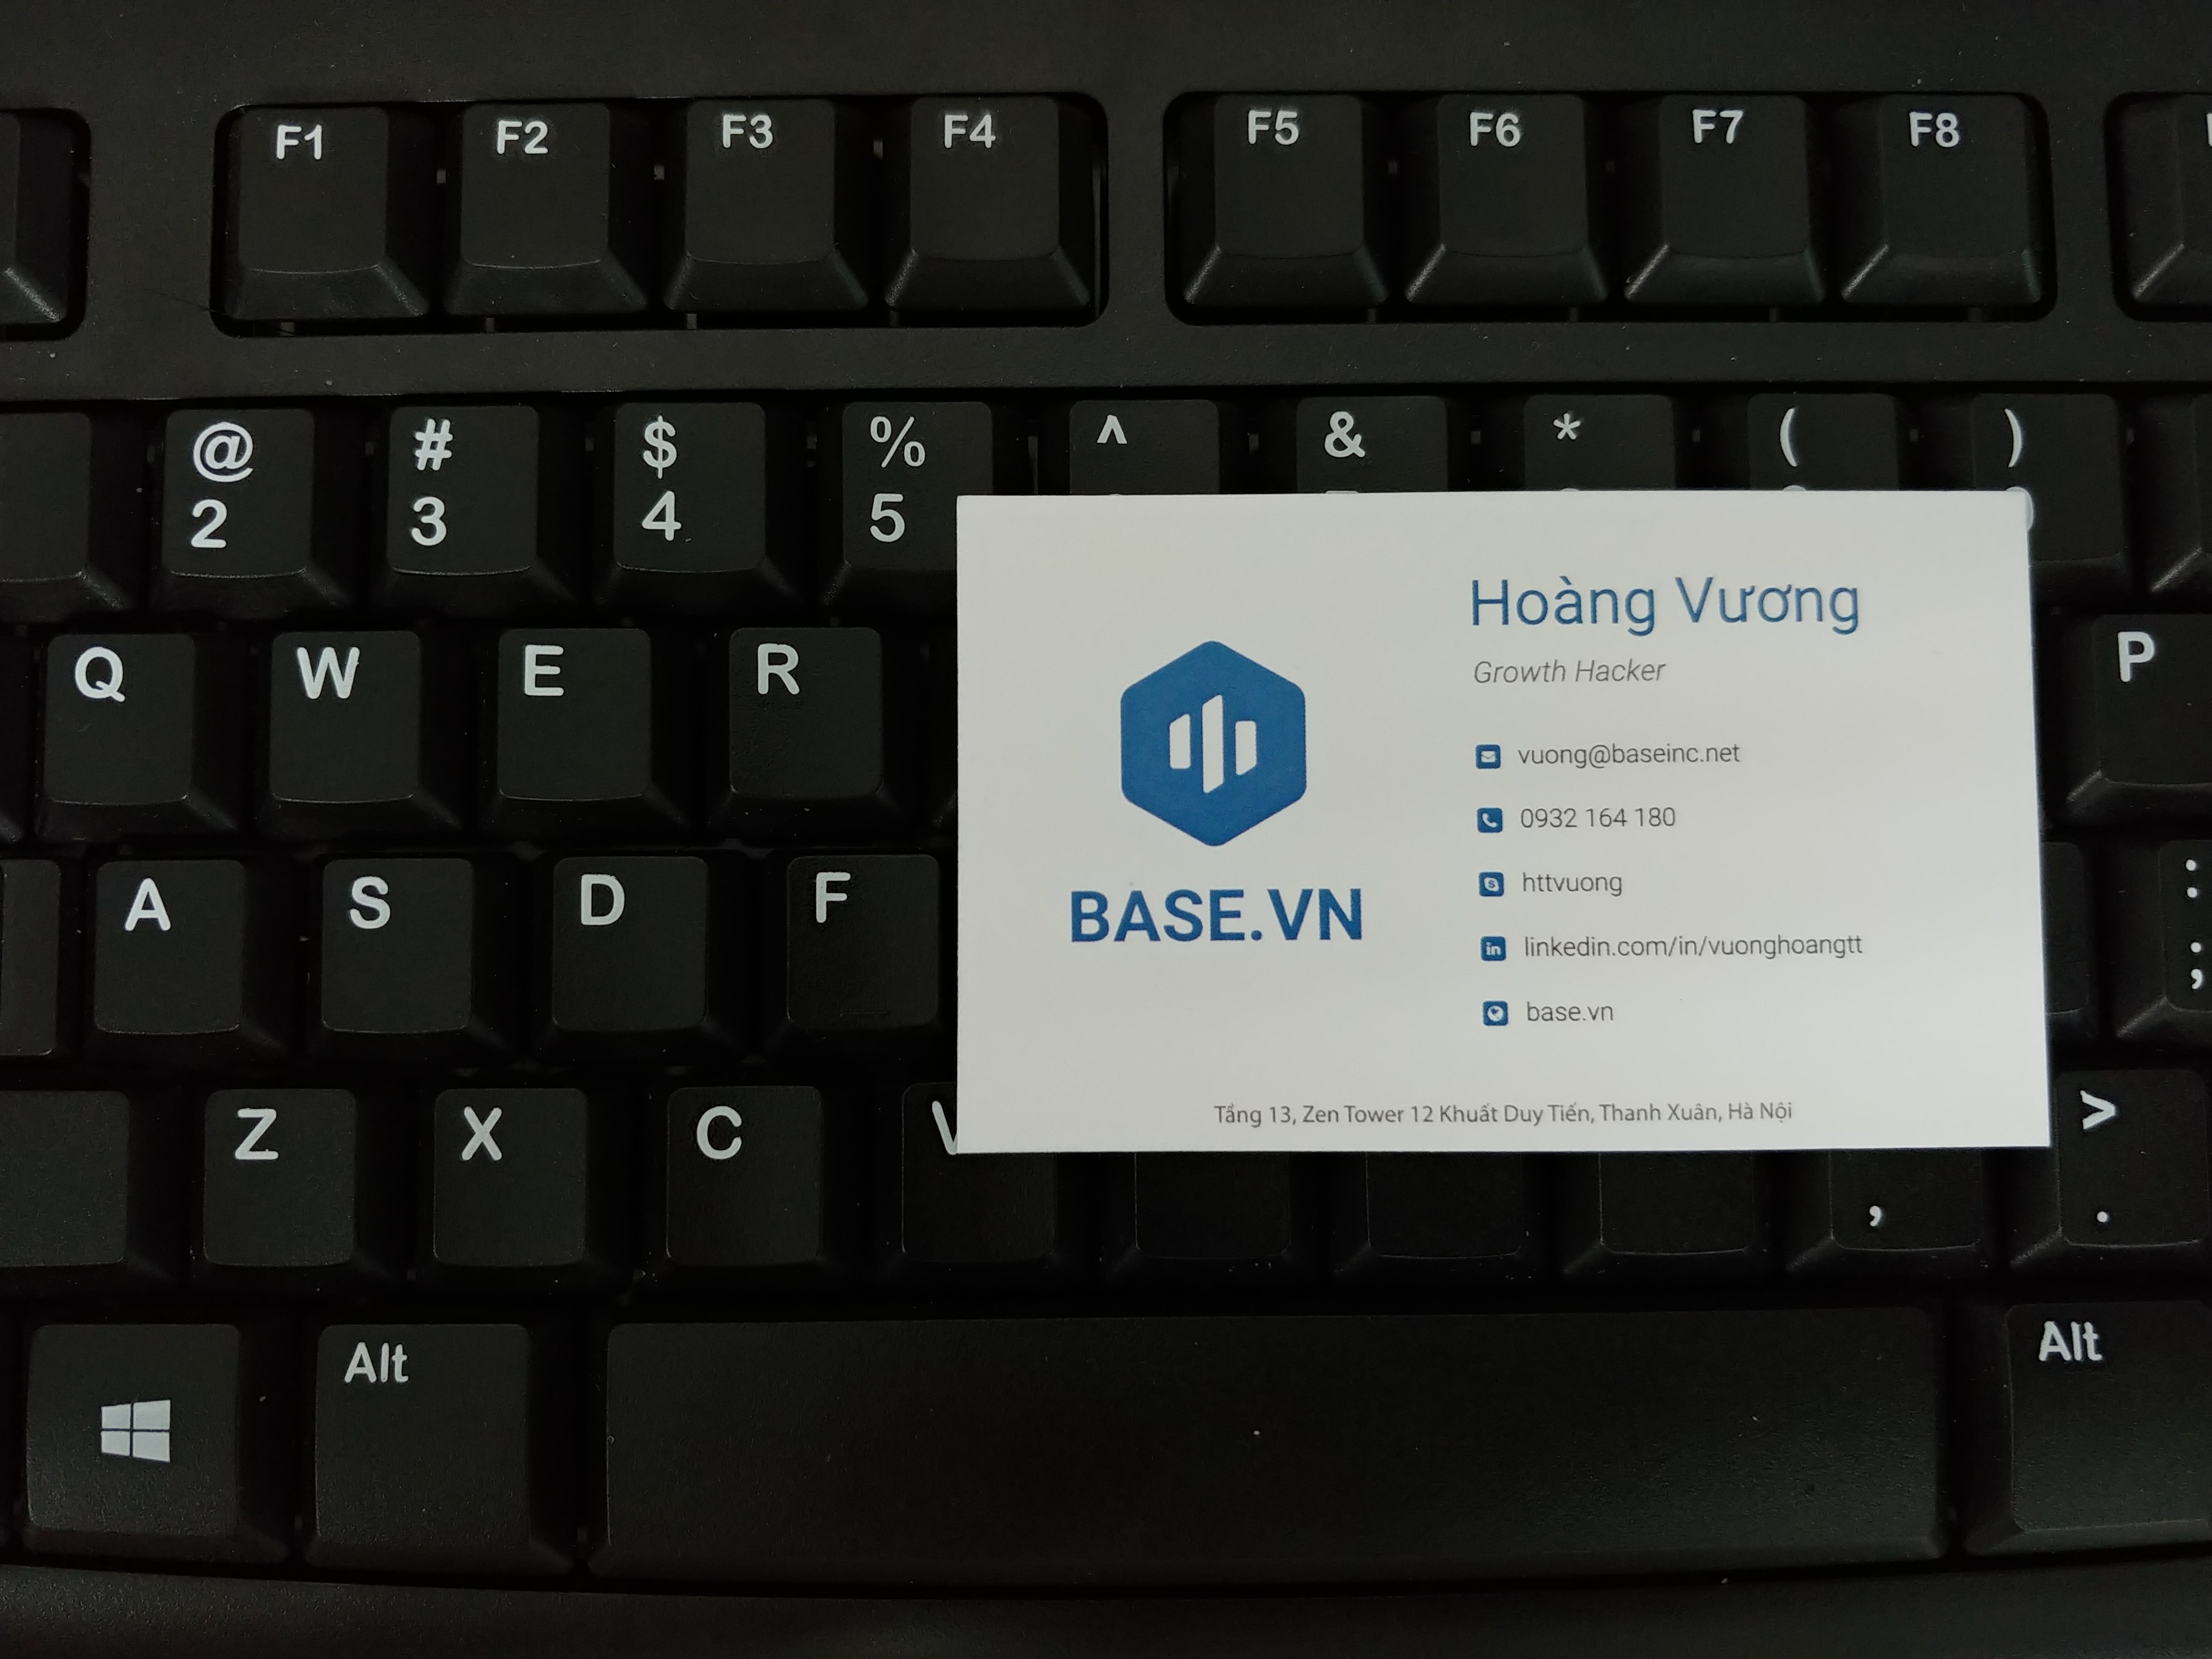card: (956, 495, 2047, 1150)
